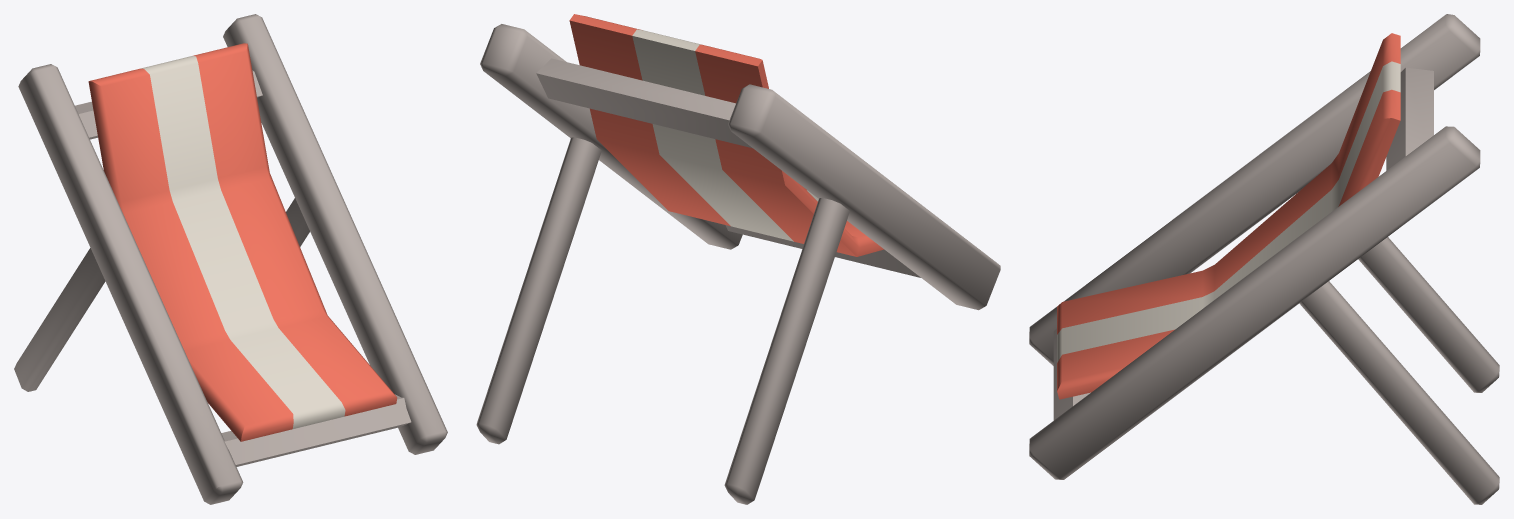
Rendered from HammockChair.fbx.
3 renders of one model, left to right at view 1: azimuth 30°, elevation 25°; view 2: azimuth 150°, elevation 25°; view 3: azimuth 270°, elevation 25°, orthographic. The views are drawn at different scales.
Parts seen in each view (by area): view 1: HammockChair; view 2: HammockChair; view 3: HammockChair.
Boxes of the visible parts, x1=… form: HammockChair: x1=14, y1=14, x2=447, y2=504; HammockChair: x1=476, y1=14, x2=1000, y2=504; HammockChair: x1=1029, y1=14, x2=1499, y2=504.
Bounding box in the file's own units: 3.49 × 4.76 × 5.46.
